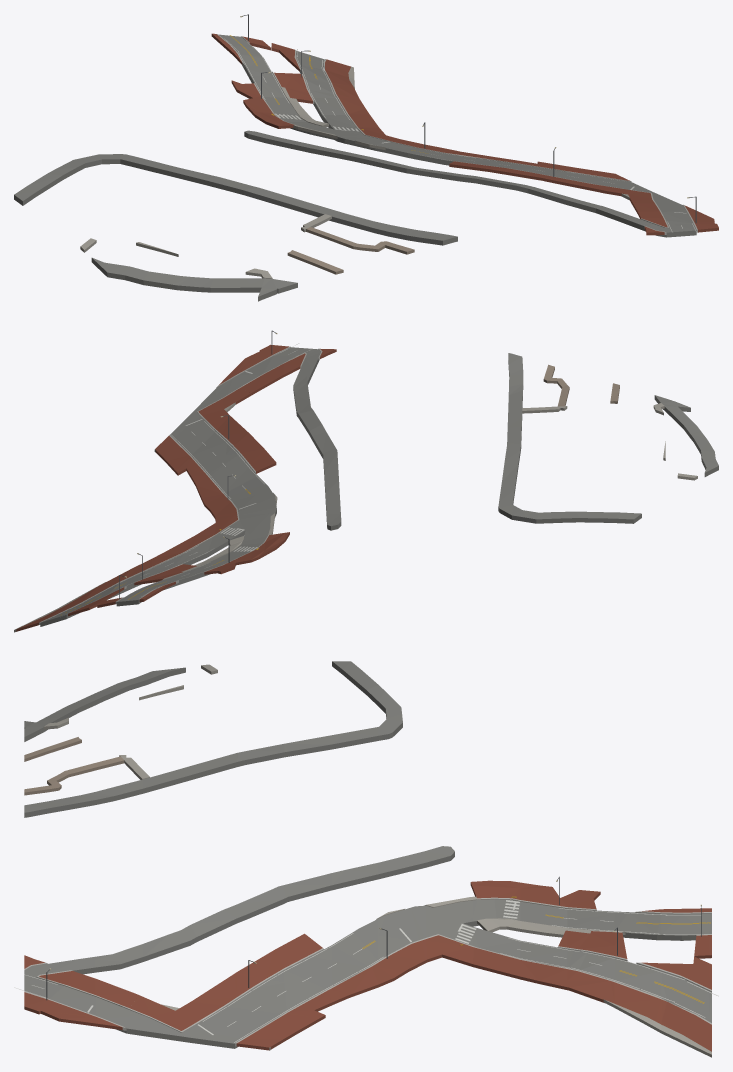
3 views of the same model, one above another, from view 1: azimuth 30°, elevation 25°; view 2: azimuth 150°, elevation 25°; view 3: azimuth 270°, elevation 25° (orthographic). The views are drawn at different scales.
Bounding box in the file's own units: 147 × 31.02 × 149.
